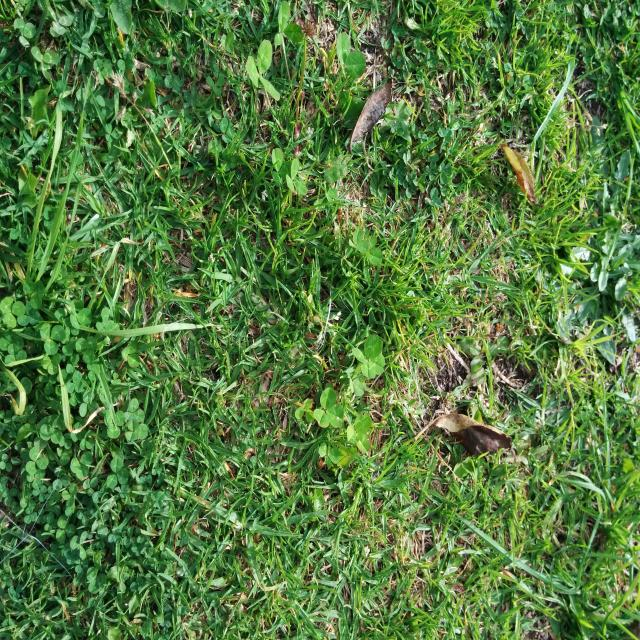Four Leaf Clover: (352, 337, 385, 378)
